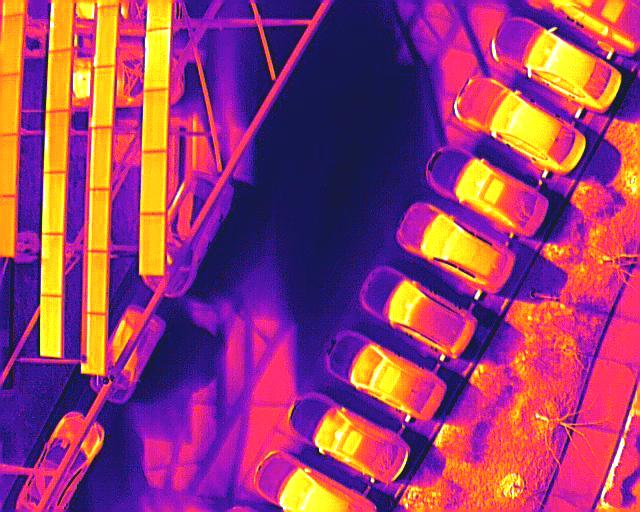No-Anomaly: (142, 84, 169, 154), (142, 148, 169, 217), (84, 248, 110, 315), (140, 211, 166, 276), (88, 126, 113, 193), (87, 187, 112, 253), (90, 63, 115, 128), (94, 4, 118, 69), (0, 14, 25, 75), (47, 48, 70, 114), (41, 234, 64, 297), (40, 295, 62, 358), (87, 314, 108, 375)
Unclassified: (143, 26, 171, 93), (42, 170, 67, 236), (44, 108, 69, 173), (49, 0, 72, 53)
